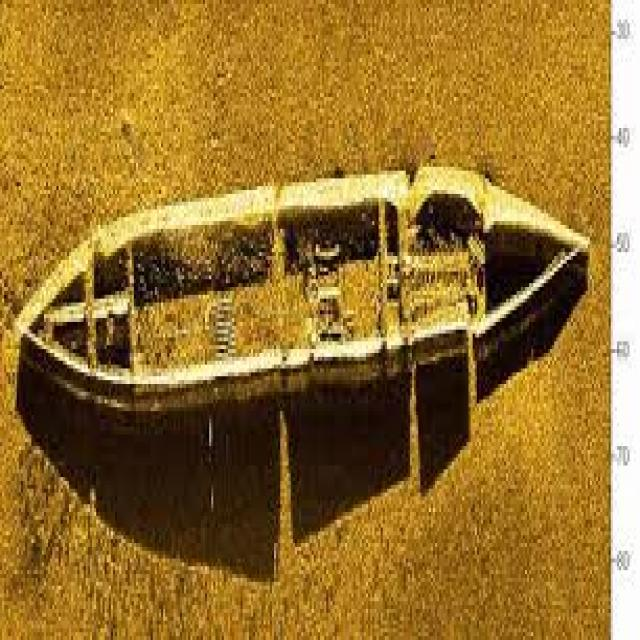ship: (17, 159, 596, 396)
